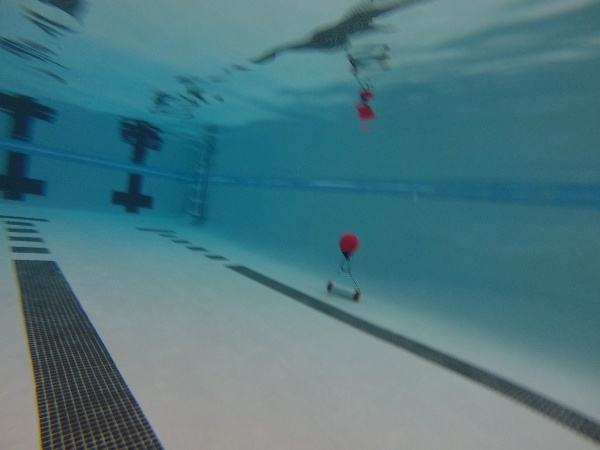buoy_red: (337, 230, 360, 262)
